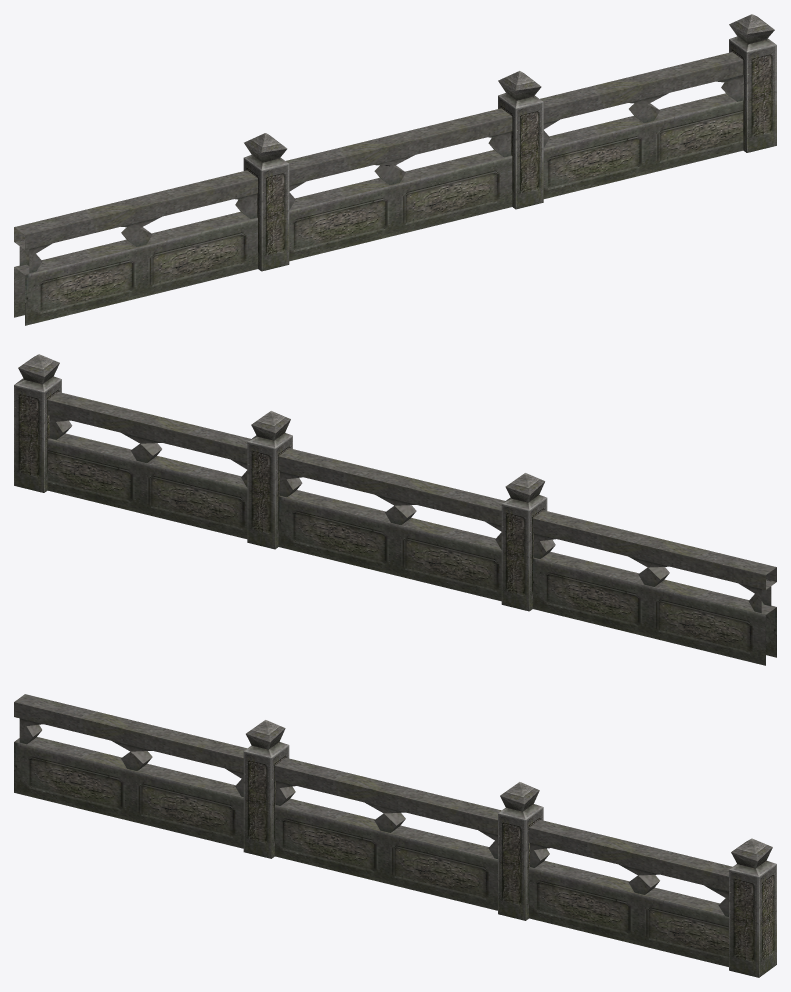
Rendered from lianqizong_taijie05d_jz.FBX.
3 renders of one model, top to bottom at view 1: azimuth 30°, elevation 25°; view 2: azimuth 150°, elevation 25°; view 3: azimuth 330°, elevation 25°, orthographic.
Visible parts, largest first — view 1: lianqizong_taijie05d_jz; view 2: lianqizong_taijie05d_jz; view 3: lianqizong_taijie05d_jz.
Boxes of the visible parts, <box> form: lianqizong_taijie05d_jz: <box>14,14,776,325</box>; lianqizong_taijie05d_jz: <box>14,354,776,665</box>; lianqizong_taijie05d_jz: <box>14,694,776,977</box>.
Bounding box in the file's own units: 440 × 72.54 × 18.29.
